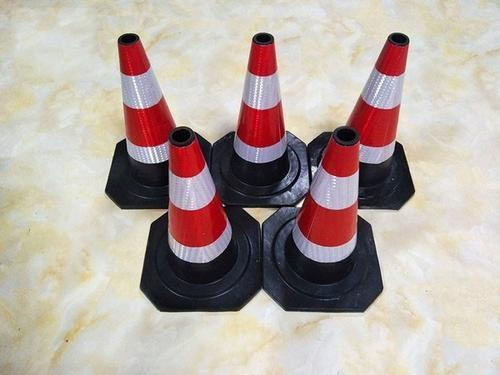cone_barrel: (152, 125, 240, 289), (282, 127, 370, 282), (107, 35, 179, 203), (345, 33, 414, 199), (226, 34, 294, 189)
